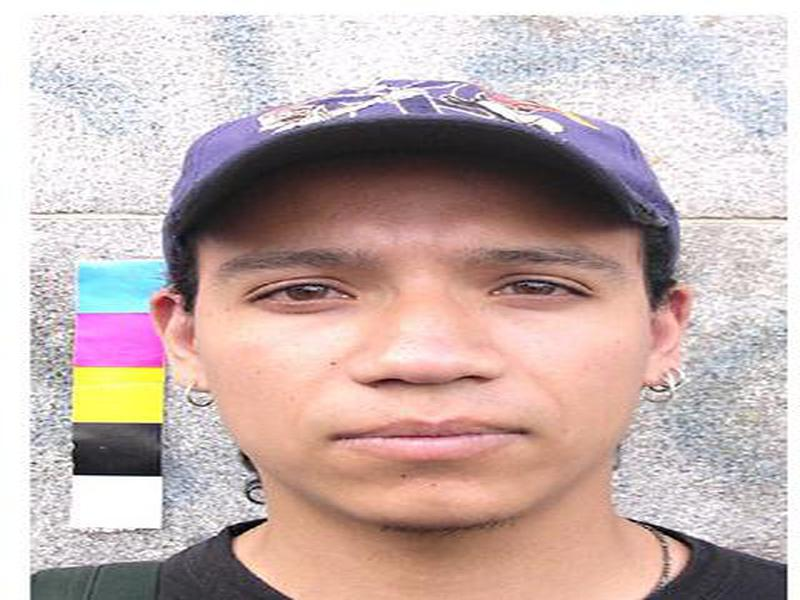without_mask: (191, 219, 653, 527)
